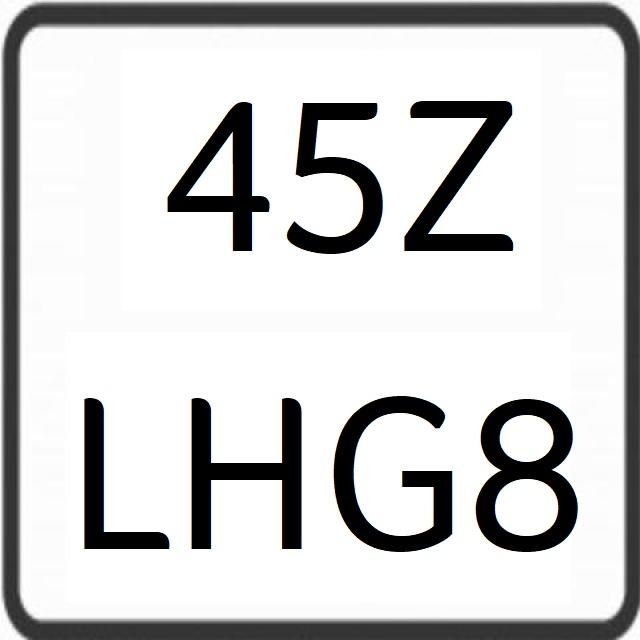4: (169, 77, 273, 260)
5: (287, 85, 387, 263)
8: (472, 389, 584, 567)
G: (329, 387, 454, 565)
H: (180, 379, 305, 566)
L: (78, 380, 174, 560)
Z: (400, 81, 524, 268)
